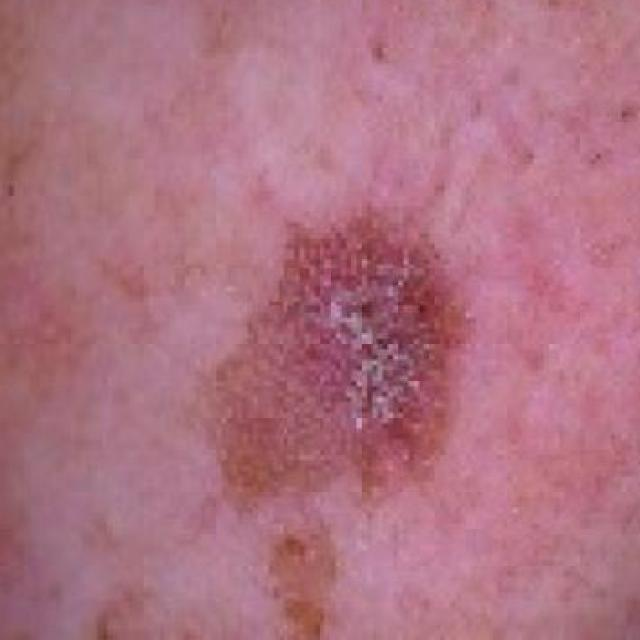AKIEC: (163, 152, 502, 556)
